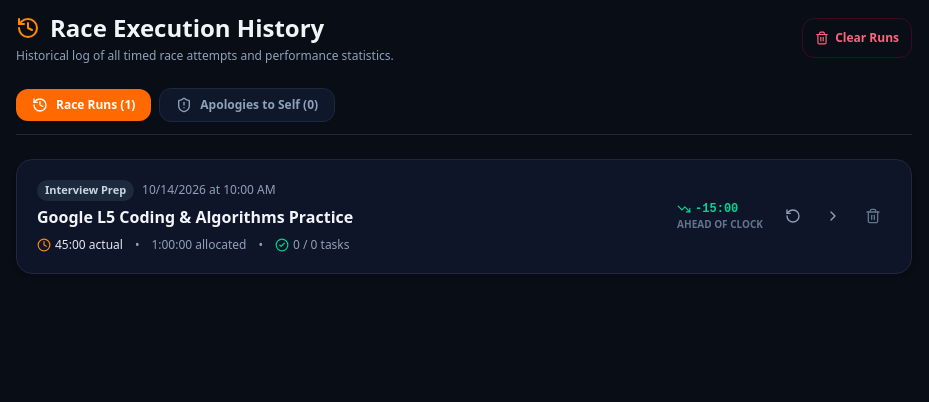
Test: RaceHistoryView › renders empty state for apologies when log is empty
The width and height of the screenshot is (929, 402).
Click the button "Apologies to Self (0)": click(247, 105) [159, 88, 335, 122]
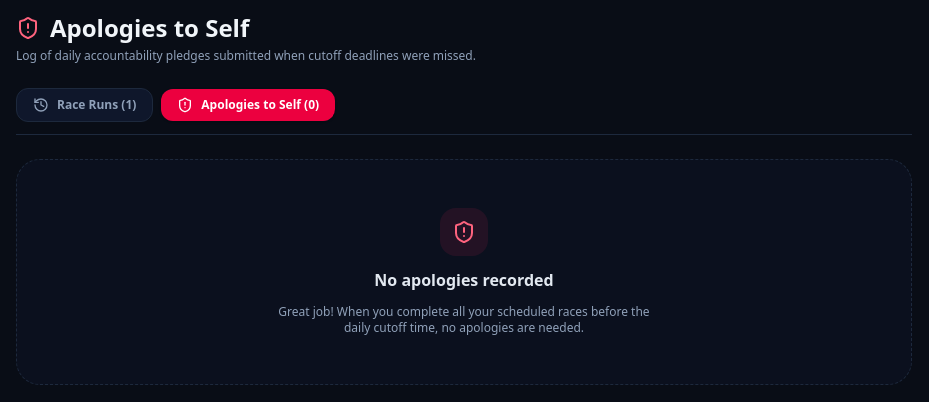
Expected: the heading "No apologies recorded" is shown, [374, 269, 554, 291]
